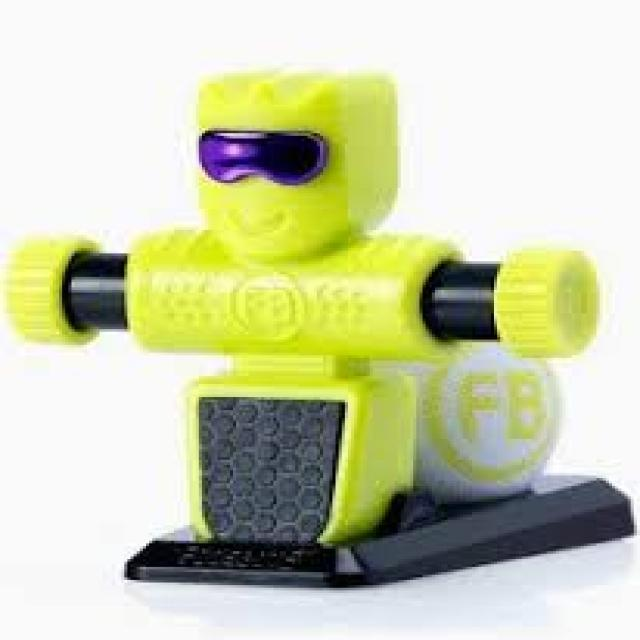hard-toy: (10, 76, 633, 585)
